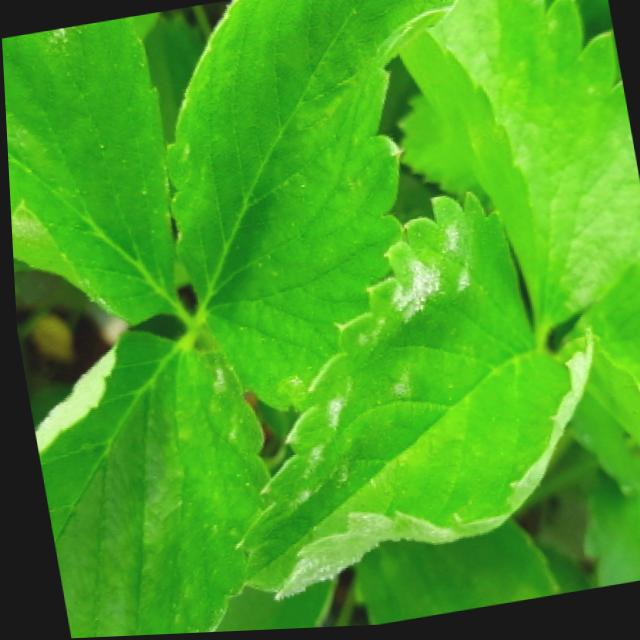Powdery Mildew Leaf: (225, 193, 592, 604), (162, 0, 462, 419), (28, 326, 263, 639), (2, 16, 182, 326), (555, 262, 640, 593)
